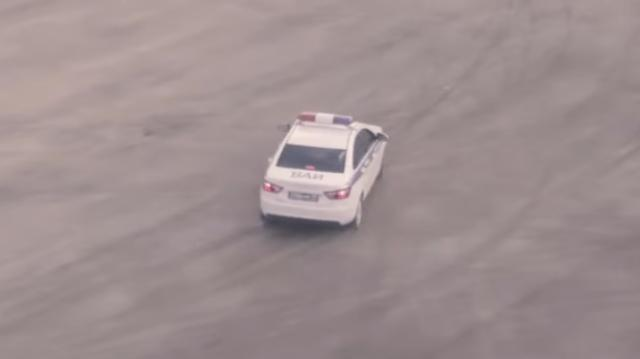police car: (255, 106, 394, 238)
